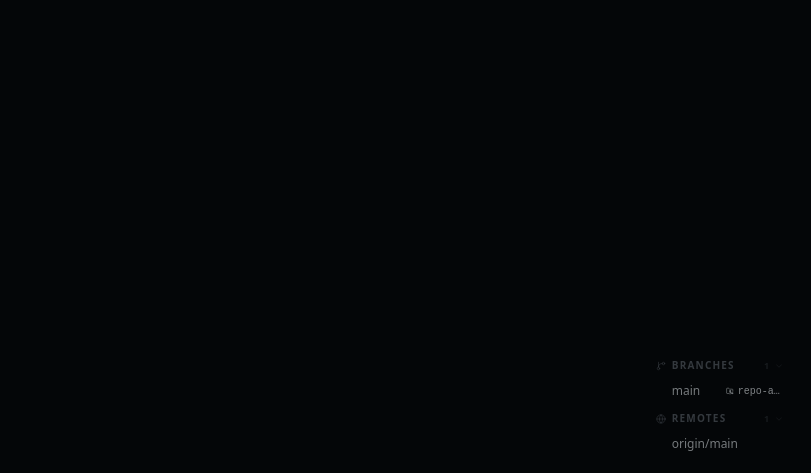
Test: RefTree — worktree awareness › remote checkout is replaced by Open worktree when the local branch is held
The width and height of the screenshot is (811, 473).
Right-click the button "origin/main".
right_click(720, 444)  # box [646,432,794,456]
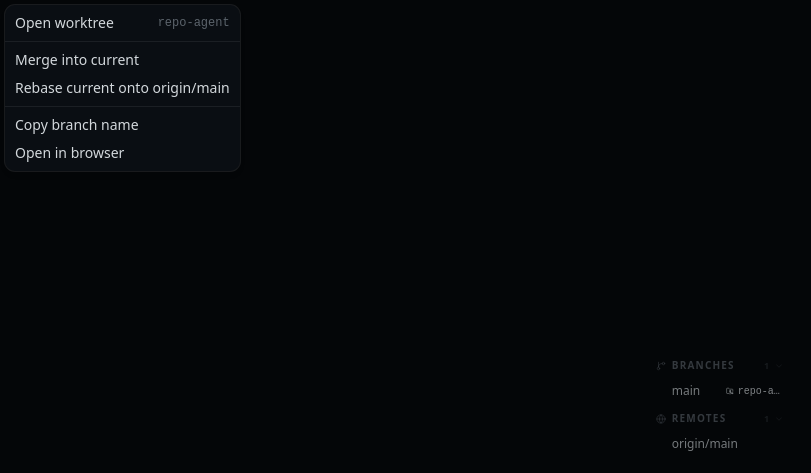
Now the menu item "Open worktree repo-agent" is shown, box [9,9,236,37]
